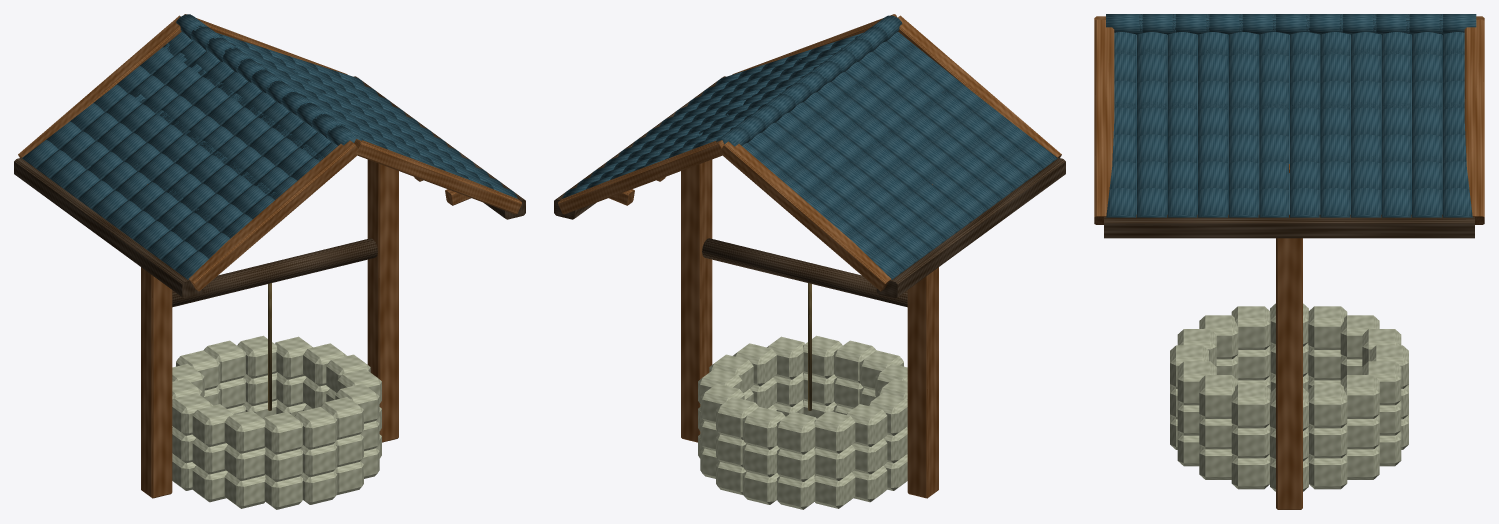
Rendered from farm_well.glb.
3 renders of one model, left to right at view 1: azimuth 30°, elevation 25°; view 2: azimuth 150°, elevation 25°; view 3: azimuth 270°, elevation 25°, orthographic. The views are drawn at different scales.
Parts seen in each view (by area): view 1: farm_well.002; view 2: farm_well.002; view 3: farm_well.002.
Boxes of the visible parts, bbox=[...] form: farm_well.002: bbox=[14, 14, 525, 509]; farm_well.002: bbox=[554, 14, 1065, 509]; farm_well.002: bbox=[1094, 14, 1484, 509].
Bounding box in the file's own units: 3.94 × 4.26 × 3.51.
Materials: 1 (1 with a texture image).
